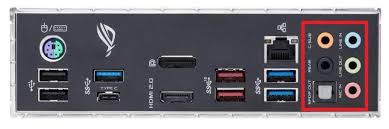Audio: (342, 80, 362, 101), (343, 55, 362, 76), (317, 32, 336, 51), (345, 30, 363, 49)
Ethernet: (263, 35, 300, 63)
USB: (262, 67, 300, 84), (93, 68, 127, 85), (261, 87, 299, 102), (213, 68, 247, 84), (37, 87, 70, 103), (213, 87, 248, 102), (39, 67, 70, 83)
